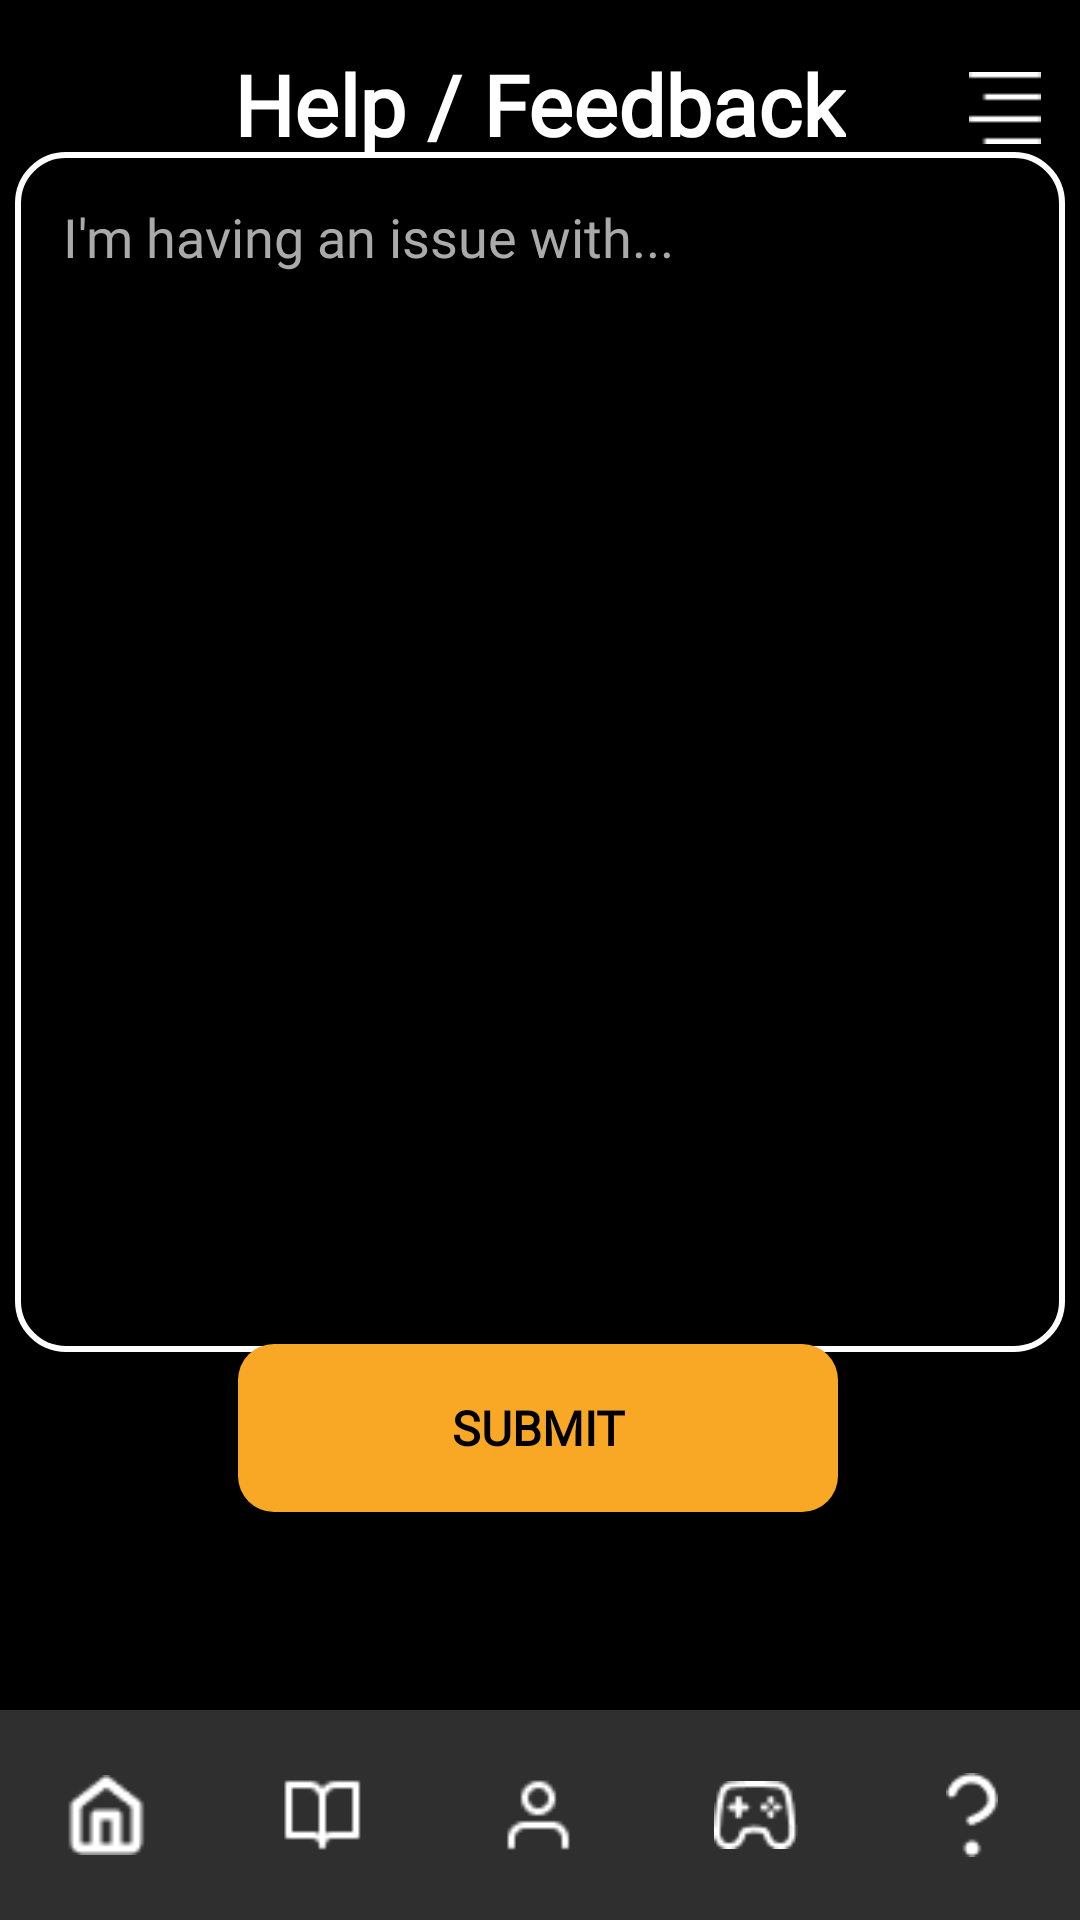

Locate icon controls on the screen. Image size 1080 × 1920, boxes as {"x1": x1, "y1": y1, "x2": x2, "y2": y2}.
menu: {"x1": 969, "y1": 72, "x2": 1041, "y2": 144}
